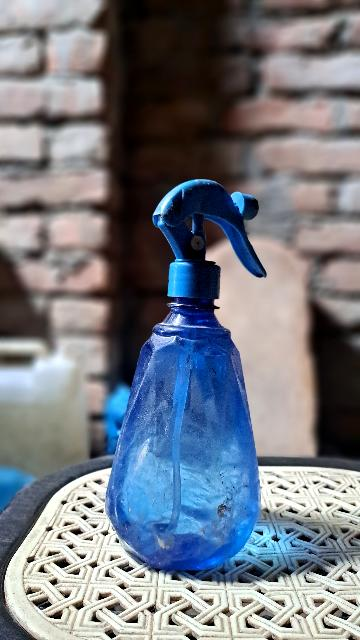hardplastic: (78, 168, 274, 559)
